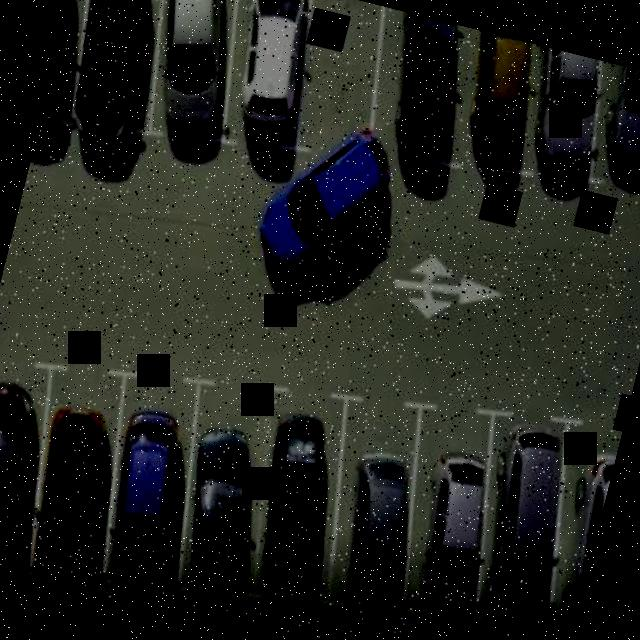car: (448, 399, 612, 640), (70, 382, 225, 614), (0, 376, 145, 594), (235, 108, 410, 285), (151, 397, 284, 628), (224, 401, 358, 624), (311, 428, 440, 640), (378, 432, 510, 639), (527, 422, 622, 640), (125, 0, 255, 153), (42, 0, 179, 134), (210, 0, 333, 134), (358, 7, 479, 138), (0, 366, 70, 576), (501, 42, 608, 170), (446, 28, 544, 152), (35, 0, 106, 148), (579, 61, 640, 188)
free: (272, 0, 404, 151)
